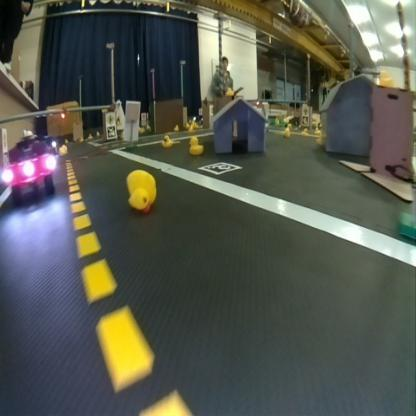Duckie: (126, 170, 156, 210), (188, 136, 202, 152), (162, 134, 172, 146), (226, 88, 233, 96), (284, 127, 290, 136), (302, 127, 308, 136), (78, 135, 84, 142), (87, 132, 92, 140), (174, 124, 178, 132), (96, 129, 100, 137)
Duckiebot: (2, 136, 56, 202)
QR code: (106, 125, 115, 137)
